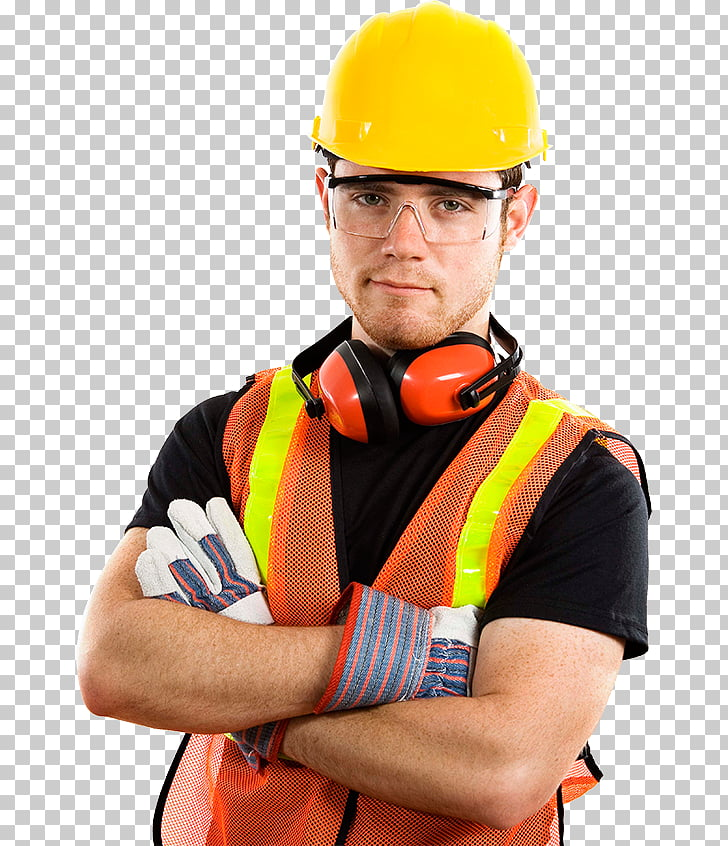Person_wearing_helmet: (310, 0, 542, 230)
